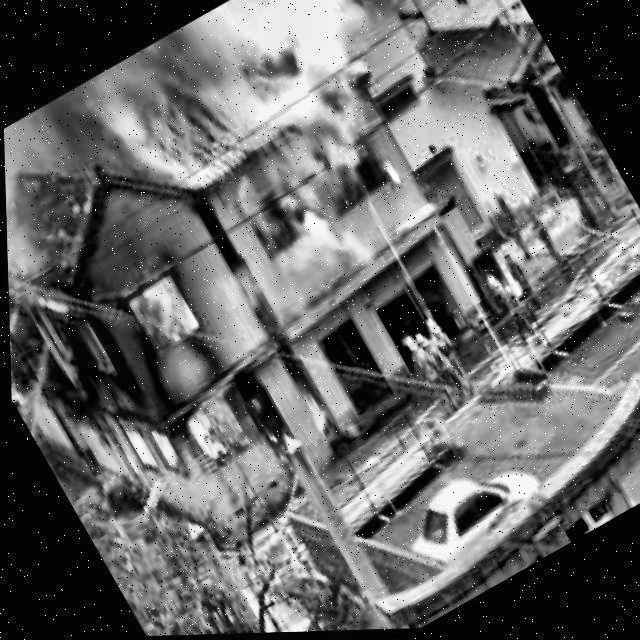Fire: (5, 190, 351, 561)
Smoke: (0, 0, 400, 276)
